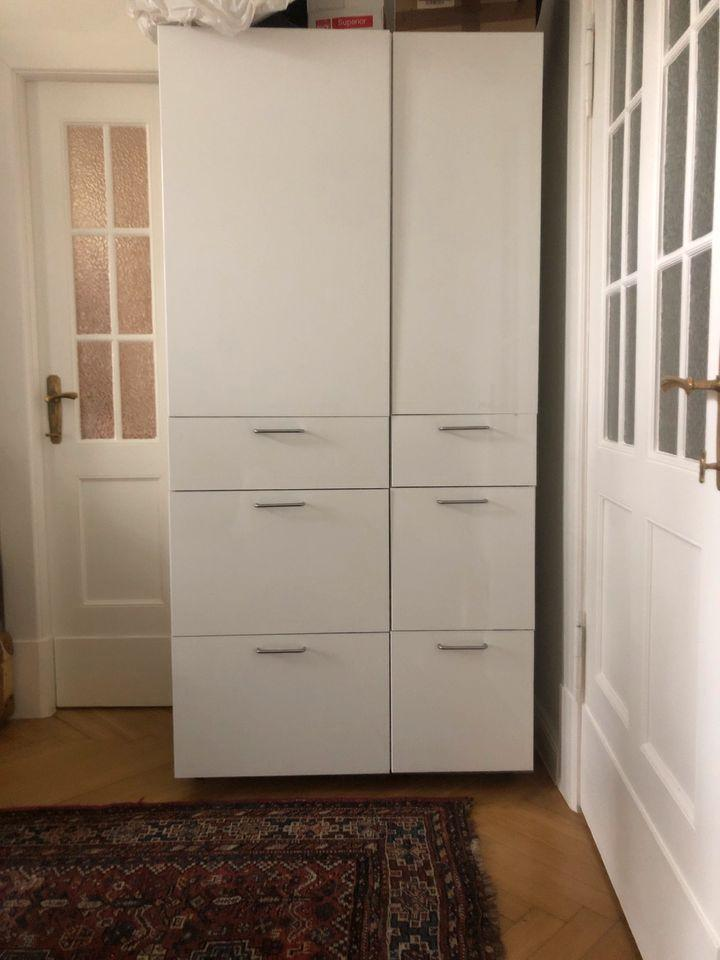cabinet_door: (166, 31, 392, 422), (396, 31, 536, 416), (175, 487, 392, 640), (176, 634, 391, 770), (392, 487, 535, 629), (393, 630, 535, 764), (173, 419, 392, 489), (392, 412, 537, 483)
handle: (432, 493, 493, 521), (432, 635, 490, 662), (436, 420, 499, 444), (251, 496, 310, 521), (253, 640, 312, 664), (250, 421, 313, 443), (43, 388, 77, 417)
